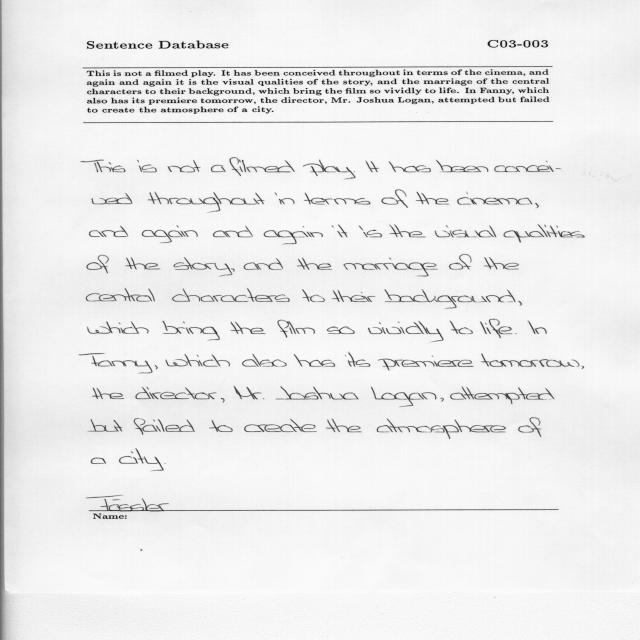word: (385, 289, 516, 309), (377, 419, 506, 439), (148, 192, 265, 213), (450, 387, 555, 405), (344, 258, 438, 277), (172, 288, 290, 302), (368, 321, 443, 342), (79, 353, 153, 374), (503, 225, 585, 243), (378, 356, 474, 371), (135, 387, 225, 403), (371, 387, 437, 407), (481, 353, 575, 367), (229, 158, 295, 177), (174, 257, 233, 277), (162, 321, 220, 341), (264, 226, 323, 245), (280, 386, 359, 400), (303, 160, 356, 180), (134, 418, 195, 435), (119, 448, 164, 471), (142, 225, 198, 243), (458, 192, 533, 205), (86, 288, 155, 302), (244, 419, 317, 432), (166, 354, 230, 367), (435, 225, 496, 238), (88, 321, 149, 334), (304, 193, 370, 205), (494, 161, 561, 172), (277, 320, 315, 338), (436, 160, 488, 172), (480, 319, 512, 338), (242, 354, 287, 367), (81, 160, 125, 173), (294, 354, 335, 367), (332, 290, 375, 302), (381, 190, 408, 208), (389, 225, 426, 238), (388, 161, 431, 172), (244, 258, 283, 270), (326, 419, 362, 432), (518, 417, 541, 437), (126, 257, 161, 270), (484, 257, 519, 270), (231, 321, 266, 334), (88, 419, 122, 432), (92, 194, 132, 205), (213, 226, 253, 237), (416, 192, 449, 205), (90, 226, 129, 237), (297, 258, 332, 270), (168, 160, 201, 172), (87, 255, 109, 273), (345, 352, 370, 367), (449, 254, 472, 270), (234, 386, 262, 399), (93, 388, 124, 399), (302, 289, 325, 302), (450, 321, 473, 334), (209, 420, 233, 432), (359, 226, 382, 238), (528, 320, 547, 334), (137, 160, 157, 172), (275, 193, 295, 205), (327, 327, 355, 334), (332, 225, 347, 238), (366, 161, 379, 172), (572, 360, 584, 369), (211, 165, 226, 172), (91, 457, 106, 464), (263, 399, 284, 400), (535, 203, 539, 208), (518, 301, 522, 306), (231, 268, 235, 272), (440, 398, 444, 402), (155, 366, 158, 370), (515, 333, 517, 334), (354, 171, 355, 172), (165, 463, 166, 464)
